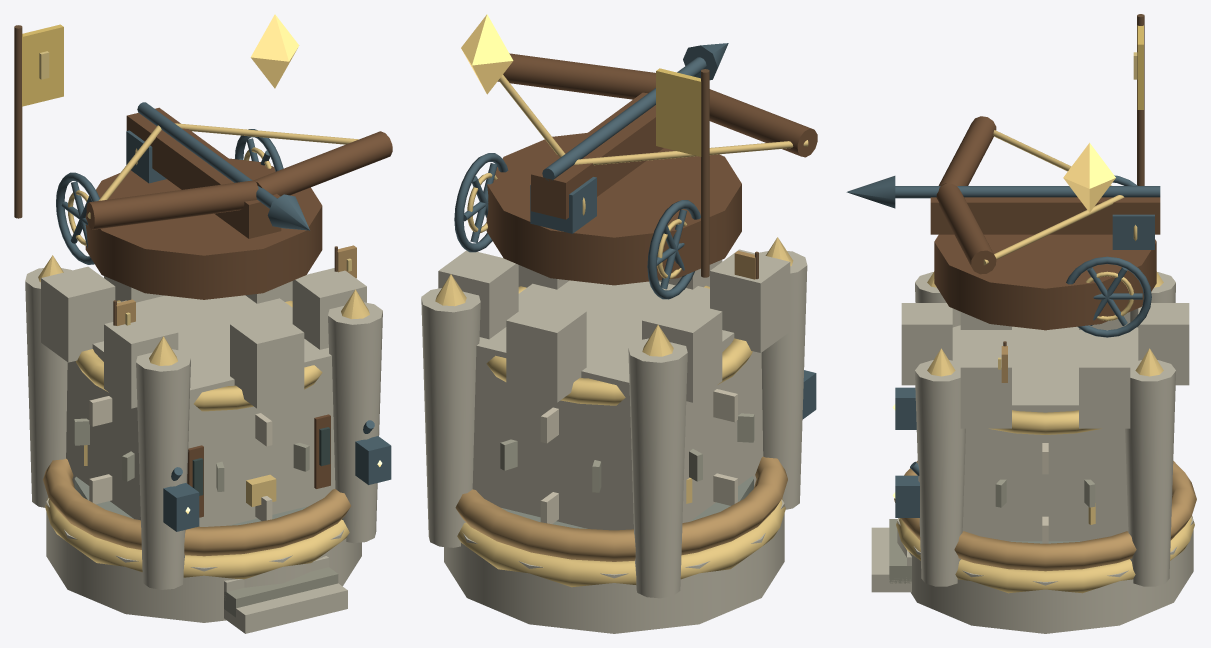
The model's file is tower-ballista-3-1.glb.
The picture shows the model from 3 angles, left to right: view 1: azimuth 30°, elevation 25°; view 2: azimuth 150°, elevation 25°; view 3: azimuth 270°, elevation 25°; orthographic projection. The views are drawn at different scales.
Visible parts, largest first — view 1: Foundation, Turret, ballista-L3-1; view 2: Foundation, Turret, ballista-L3-1; view 3: Foundation, Turret, ballista-L3-1.
Part boxes in pixels (x1,y1,x2,y2): Foundation: (14,24,391,633); Turret: (56,14,392,299); ballista-L3-1: (46,476,361,622); Foundation: (421,68,816,598); Turret: (454,14,817,299); ballista-L3-1: (444,476,784,633); Foundation: (871,14,1196,593); Turret: (846,116,1160,337); ballista-L3-1: (897,516,1193,633).
Bounding box in the file's own units: 1.83 × 3.09 × 1.99.
